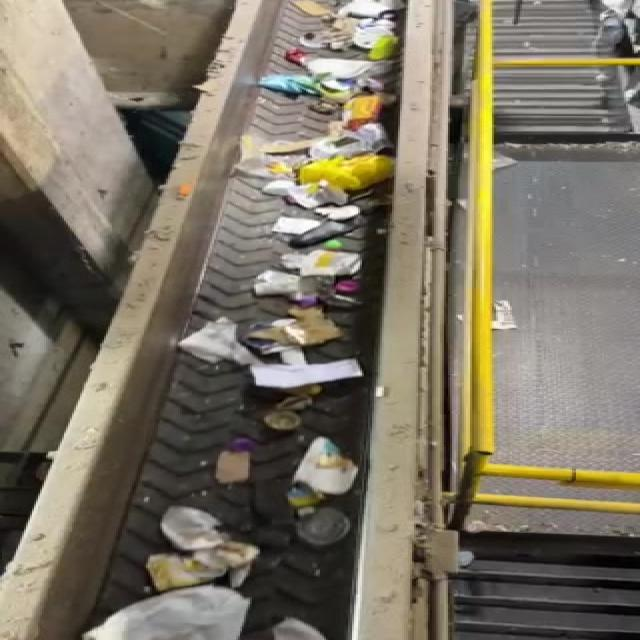paper: (64, 580, 278, 640), (133, 547, 284, 590), (290, 429, 375, 496), (152, 507, 252, 555), (196, 431, 264, 493)
pp: (237, 402, 328, 433), (287, 504, 354, 544)
